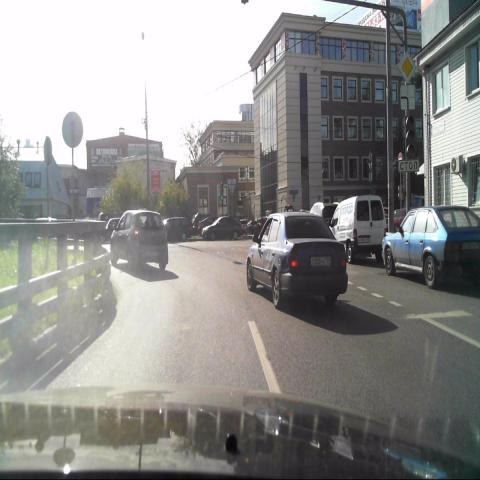2_1: (398, 52, 417, 84)
6_16: (397, 157, 419, 172)
8_13: (400, 85, 414, 110)
